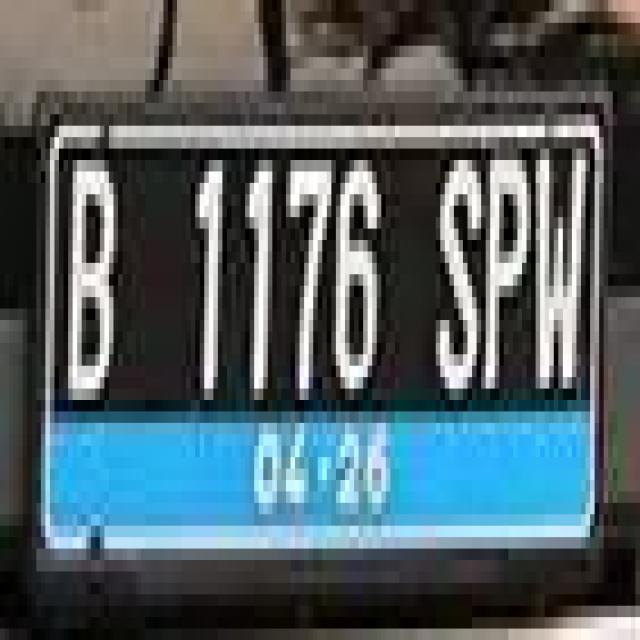1: (186, 154, 227, 417), (240, 154, 276, 417)
6: (334, 160, 384, 400)
7: (282, 148, 332, 400)
B: (64, 148, 118, 412)
P: (486, 154, 532, 394)
S: (428, 154, 484, 406)
W: (531, 148, 586, 400)
